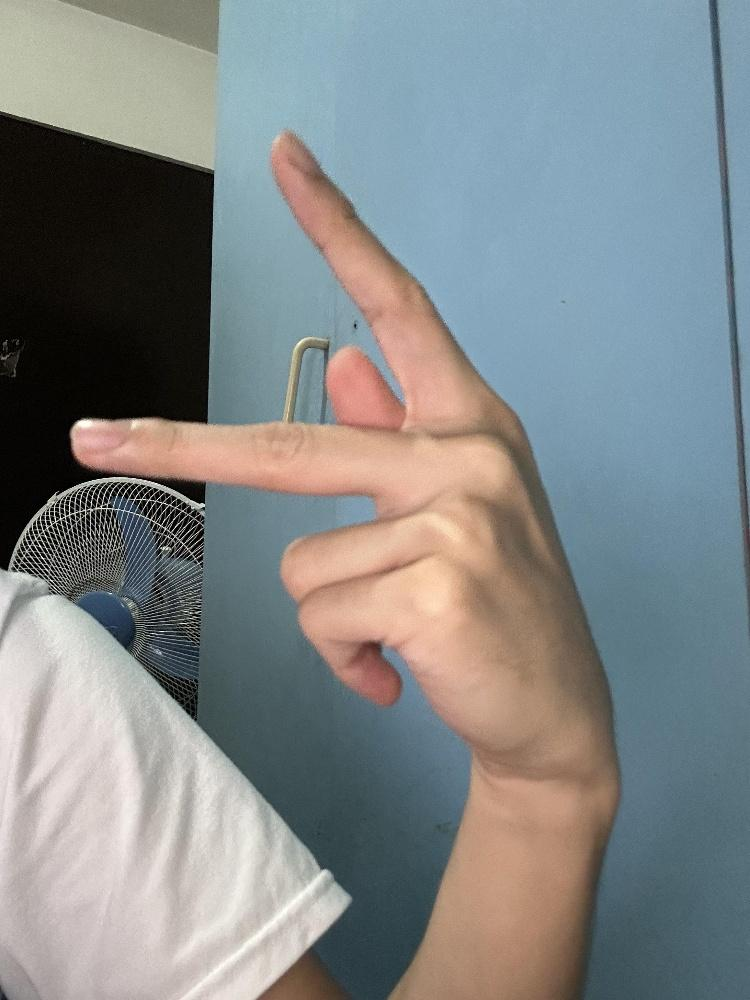k: (68, 124, 617, 795)
